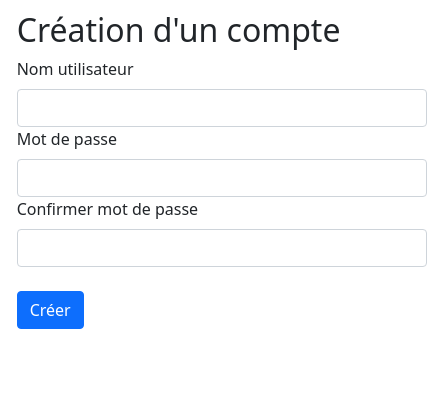
Scenario: Création d'un compte client › Aucune information n'a été entrée dans les champs
The width and height of the screenshot is (444, 420).
Click the button "Créer": (50, 310) [17,291,84,329]
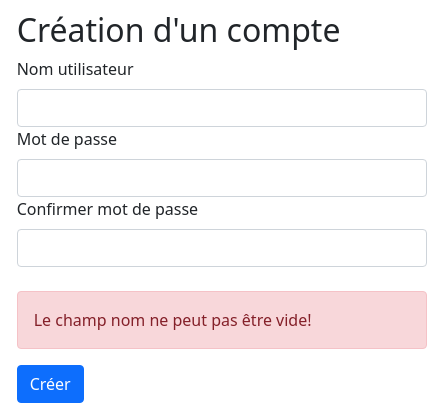
expect the message reads "Le champ nom ne peut pas être vide!": met, box [34,309,312,331]
